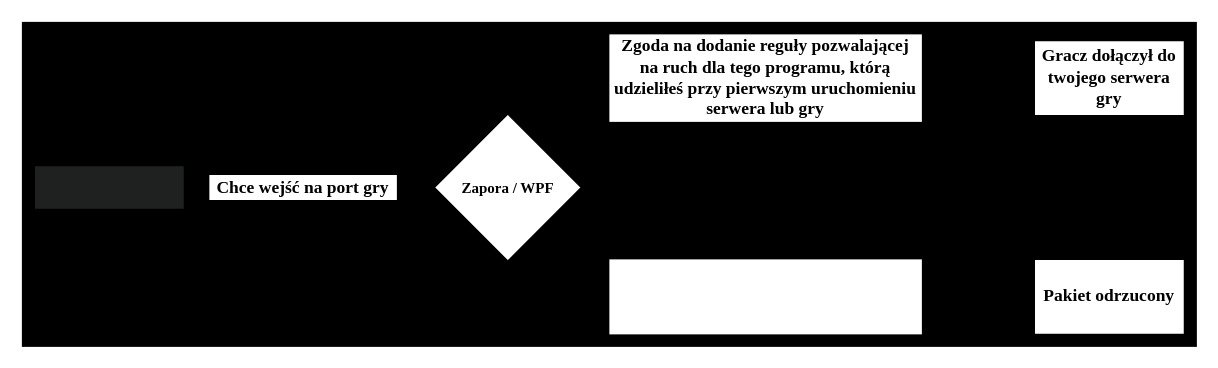
The diagram is 1218 pixels wide and 368 high, and some of its shapes have lost their labels. Here are the shapes that lost their labels. From the top down, the centre of each, then its label:
At pixel 108 186: "Gracz z internetu".
At pixel 765 296: "Odmówiona zgoda lub brak reguły powiązanej z tym portem oprogramowania".
